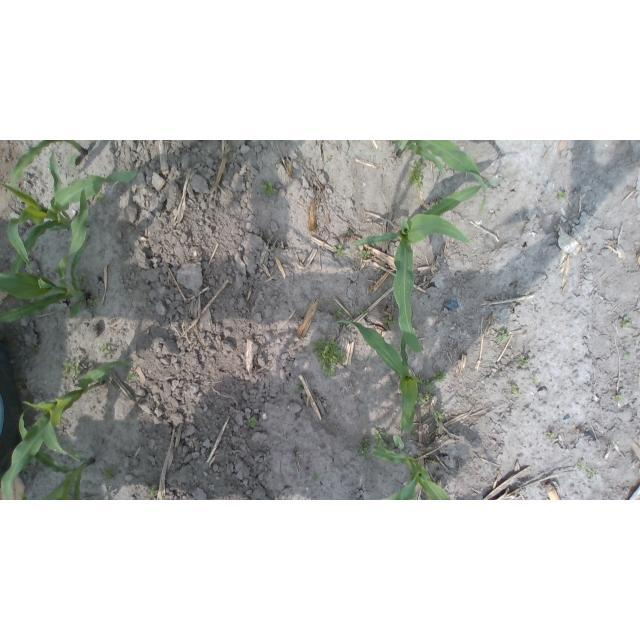Maize: (355, 184, 484, 352), (1, 360, 132, 500), (0, 152, 136, 273), (0, 189, 88, 323), (336, 318, 425, 434), (16, 405, 97, 500), (395, 140, 487, 212), (372, 433, 451, 500), (9, 140, 88, 186)
Weeds: (313, 339, 346, 377), (409, 159, 426, 189), (61, 360, 81, 380), (259, 180, 279, 197), (414, 391, 434, 405), (374, 429, 389, 447), (359, 437, 372, 457), (104, 467, 119, 482), (16, 297, 36, 308), (434, 368, 447, 383), (78, 272, 89, 289), (332, 244, 345, 257), (496, 329, 509, 341), (433, 408, 445, 421), (384, 316, 397, 328), (27, 344, 40, 356), (94, 189, 106, 201), (100, 342, 112, 354), (619, 317, 632, 328), (249, 416, 260, 428), (128, 370, 139, 381), (89, 297, 100, 307), (423, 380, 435, 389), (511, 383, 520, 394), (520, 355, 529, 365), (336, 307, 344, 318), (359, 251, 371, 258), (147, 488, 156, 497), (297, 382, 304, 392), (588, 468, 596, 476), (391, 440, 398, 449), (360, 308, 369, 315), (312, 474, 320, 481), (578, 461, 584, 469), (558, 191, 566, 197), (624, 351, 631, 357), (530, 376, 536, 382), (616, 396, 622, 401), (549, 434, 553, 439)
